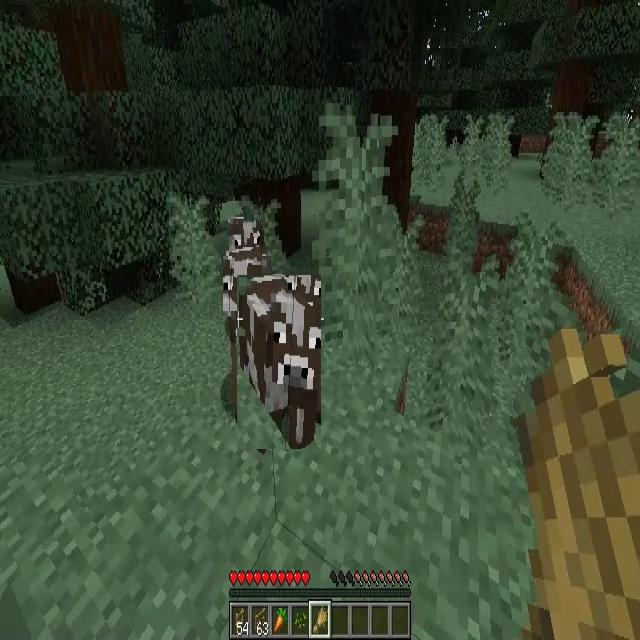cow: (237, 275, 321, 449), (223, 256, 271, 311), (229, 211, 264, 250)
